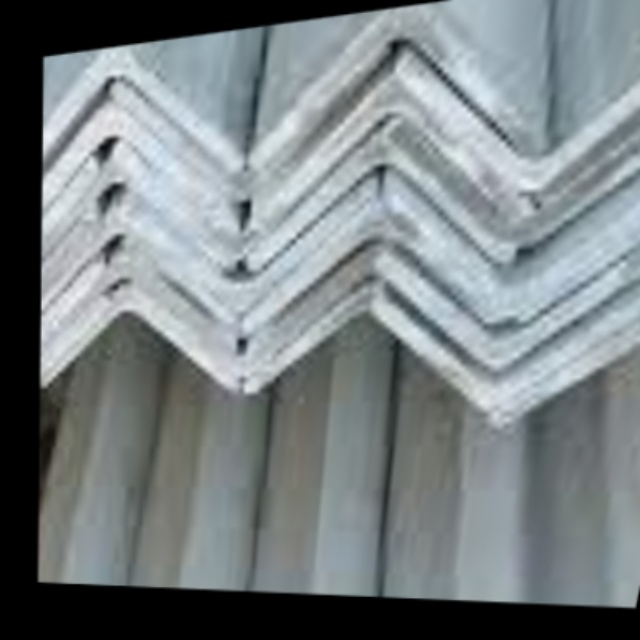Angle: (267, 0, 544, 160), (119, 55, 383, 203), (256, 131, 523, 273), (404, 36, 640, 187), (384, 194, 640, 319), (42, 39, 241, 186), (380, 249, 640, 359), (377, 300, 640, 404), (127, 183, 366, 295), (247, 221, 499, 323), (42, 106, 234, 229), (40, 257, 241, 360), (51, 302, 232, 387), (526, 210, 640, 316), (506, 330, 640, 420), (40, 296, 104, 385), (42, 91, 88, 205), (40, 268, 93, 358), (41, 228, 90, 317)
